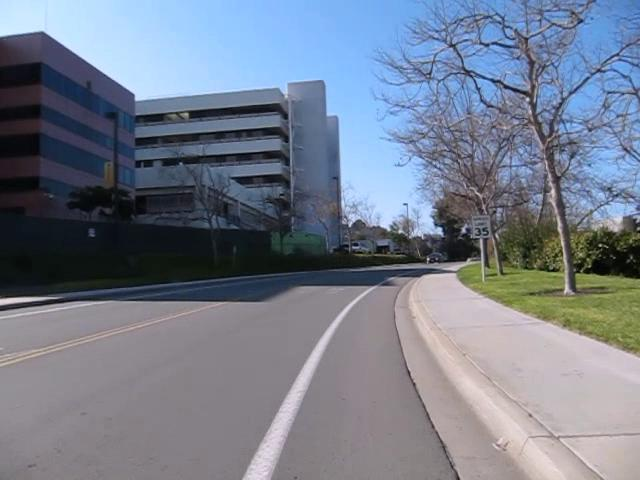speedLimit35: (470, 213, 491, 238)
